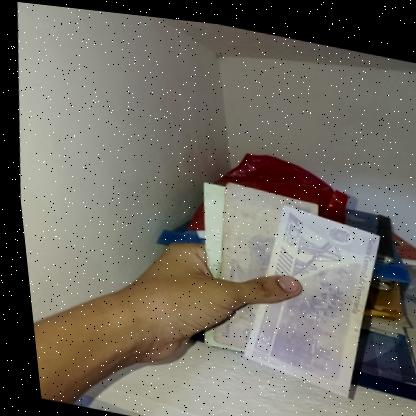fifty-back-vef: (184, 172, 264, 353)
ten-back-vef: (195, 173, 327, 357)
two_hundred-back-vef: (223, 190, 391, 398)
